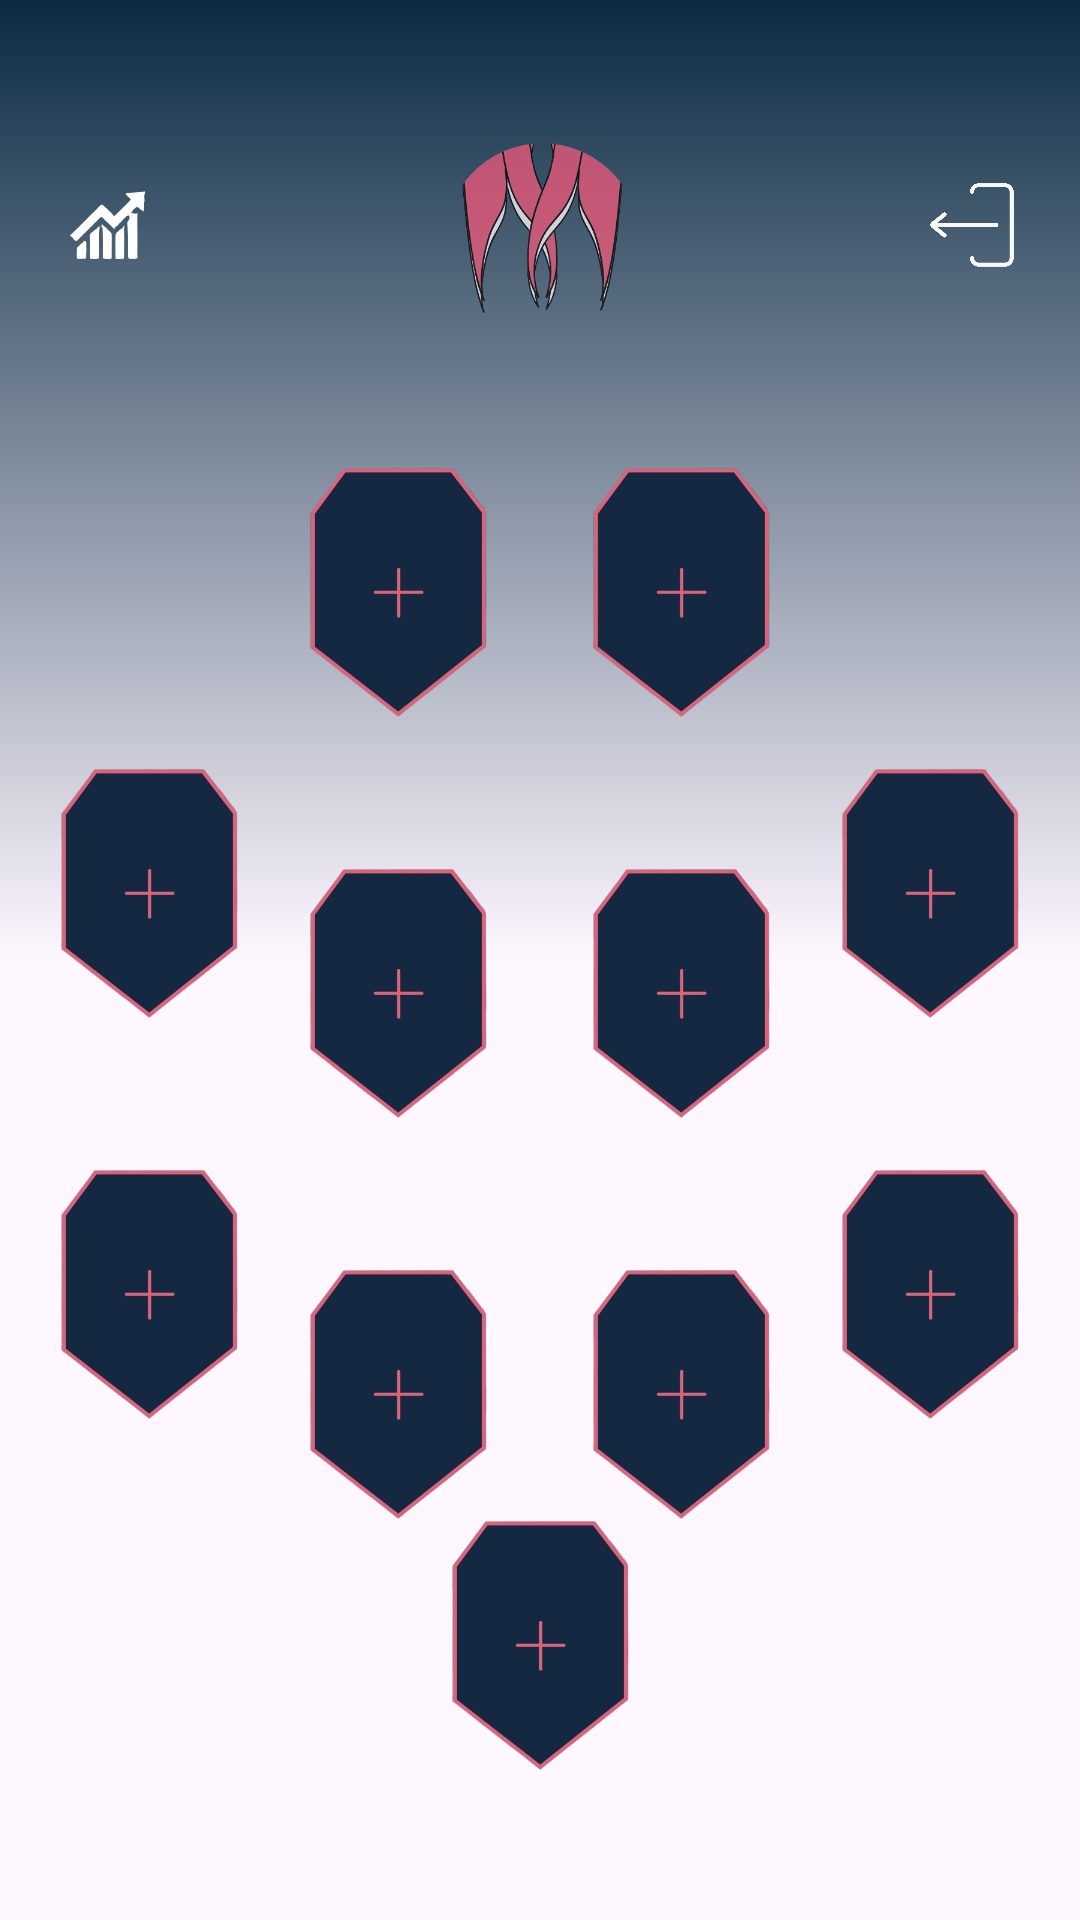

Icon click points for this 1080×1920 phone screenshot, format (x=x, y=y):
graph: (x=108, y=238)
log out: (x=972, y=234)
